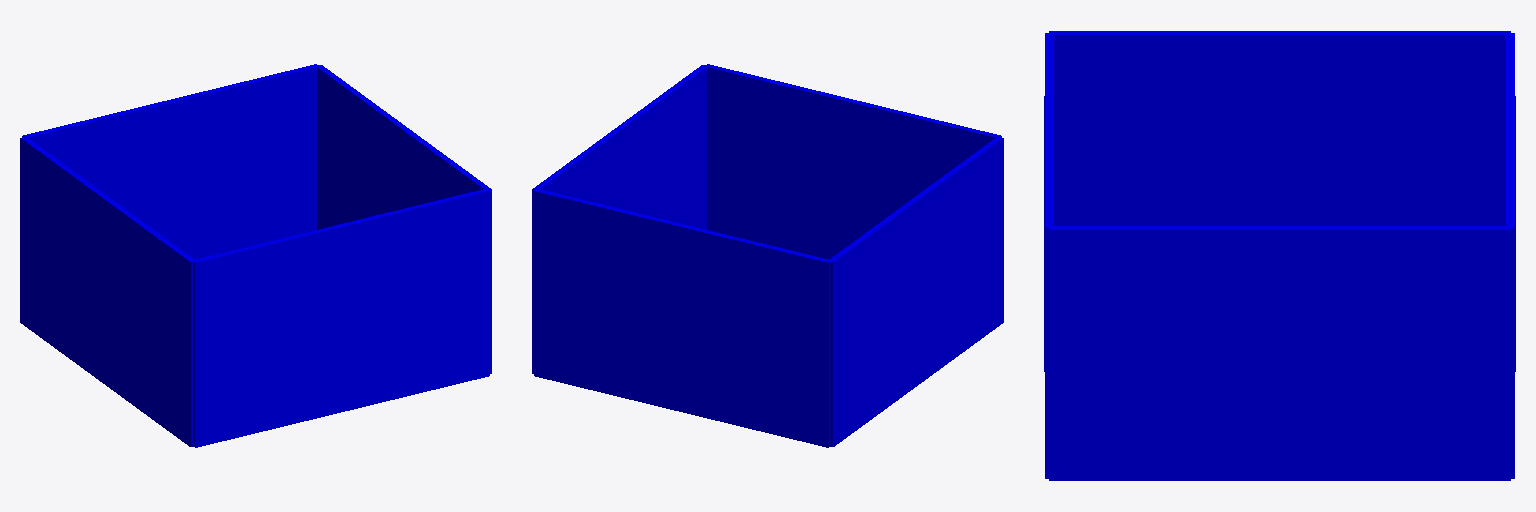
The robot description file, URDF, robot "fobo2":
<?xml version="1.0" ?>
<!-- =================================================================================== -->
<!-- |    This document was autogenerated by xacro from urdf/room.xacro                | -->
<!-- |    EDITING THIS FILE BY HAND IS NOT RECOMMENDED                                 | -->
<!-- =================================================================================== -->
<robot xmlns:xacro="http://www.ros.org/wiki/xacro" name="fobo2">
  <!-- link macros -->
  <!-- Define links joints macros  -->
  <!-- Base link -->
  <link name="wall1">
    <visual>
      <geometry>
        <box size="6 10 0.2"/>
      </geometry>
      <origin rpy="0 1.5707 0" xyz="0 0 0"/>
      <material name="white">
        <color rgba="0 0 1 1"/>
      </material>
    </visual>
    <collision>
      <geometry>
        <box size="6 10 0.2"/>
      </geometry>
      <origin rpy="0 0 0" xyz="0 0 0"/>
    </collision>
    <inertial>
      <mass value="0"/>
      <inertia ixx="0.0" ixy="0" ixz="0" iyy="0.0" iyz="0" izz="0.0"/>
    </inertial>
  </link>
  <link name="wall2">
    <visual>
      <geometry>
        <box size="6 10 0.2"/>
      </geometry>
      <origin rpy="0 1.5707 0" xyz="0 0 0"/>
      <material name="white">
        <color rgba="0 0 1 1"/>
      </material>
    </visual>
    <collision>
      <geometry>
        <box size="6 10 0.2"/>
      </geometry>
      <origin rpy="0 0 0" xyz="0 0 0"/>
    </collision>
    <inertial>
      <mass value="0"/>
      <inertia ixx="0.0" ixy="0" ixz="0" iyy="0.0" iyz="0" izz="0.0"/>
    </inertial>
  </link>
  <link name="wall3">
    <visual>
      <geometry>
        <box size="6 10 0.2"/>
      </geometry>
      <origin rpy="0 1.5707 0" xyz="0 0 0"/>
      <material name="white">
        <color rgba="0 0 1 1"/>
      </material>
    </visual>
    <collision>
      <geometry>
        <box size="6 10 0.2"/>
      </geometry>
      <origin rpy="0 0 0" xyz="0 0 0"/>
    </collision>
    <inertial>
      <mass value="0"/>
      <inertia ixx="0.0" ixy="0" ixz="0" iyy="0.0" iyz="0" izz="0.0"/>
    </inertial>
  </link>
  <link name="wall4">
    <visual>
      <geometry>
        <box size="6 10 0.2"/>
      </geometry>
      <origin rpy="0 1.5707 0" xyz="0 0 0"/>
      <material name="white">
        <color rgba="0 0 1 1"/>
      </material>
    </visual>
    <collision>
      <geometry>
        <box size="6 10 0.2"/>
      </geometry>
      <origin rpy="0 0 0" xyz="0 0 0"/>
    </collision>
    <inertial>
      <mass value="0"/>
      <inertia ixx="0.0" ixy="0" ixz="0" iyy="0.0" iyz="0" izz="0.0"/>
    </inertial>
  </link>
  <joint name="wall12" type="fixed">
    <parent link="wall1"/>
    <child link="wall2"/>
    <origin xyz="5.0 5.0 0" rpy="0 0 1.5707"/>
  </joint>
  <joint name="wall13" type="fixed">
    <parent link="wall1"/>
    <child link="wall3"/>
    <origin xyz="5.0 -5.0 0" rpy="0 0 -1.5707"/>
  </joint>
  <joint name="wall14" type="fixed">
    <parent link="wall1"/>
    <child link="wall4"/>
    <origin xyz="10 0 0" rpy="0 0 0"/>
  </joint>
</robot>

--- What the picture shows (computed from the rendered views, not written in the file) ---
Views: 3 orthographic renders of the robot side by side, from view 1: azimuth 30°, elevation 25°; view 2: azimuth 150°, elevation 25°; view 3: azimuth 270°, elevation 25°.
Robot: fobo2 — 4 links, 3 joints (3 fixed); root link wall1; default pose: all joints at 0.
Visible links, largest first — view 1: wall3, wall2, wall1, wall4; view 2: wall2, wall3, wall1, wall4; view 3: wall4, wall1, wall2, wall3.
Boxes of the visible links, x1,y1,x2,y2 form: wall3: (194, 189, 489, 447); wall2: (22, 64, 317, 259); wall1: (20, 136, 195, 446); wall4: (317, 65, 491, 373); wall2: (534, 189, 829, 447); wall3: (706, 64, 1001, 259); wall1: (828, 136, 1003, 446); wall4: (532, 65, 706, 373); wall4: (1049, 226, 1510, 480); wall1: (1049, 31, 1510, 225); wall2: (1506, 33, 1515, 478); wall3: (1044, 33, 1053, 478).
Size in the robot's own frame: 10.2 by 10.2 by 6 metres.
Geometry: primitives only (box / cylinder / sphere), no mesh files.